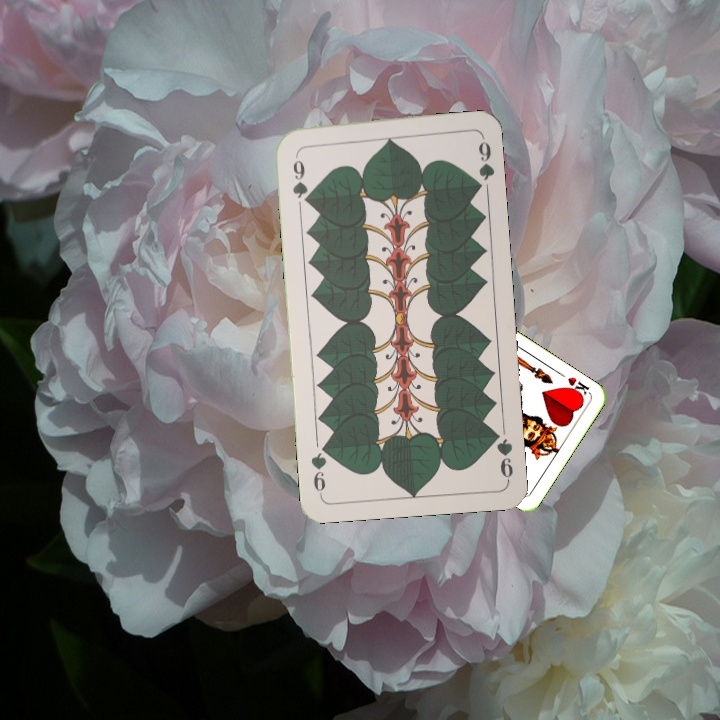G9: (488, 425, 516, 483), (288, 148, 312, 207)
HK: (563, 373, 593, 400)
